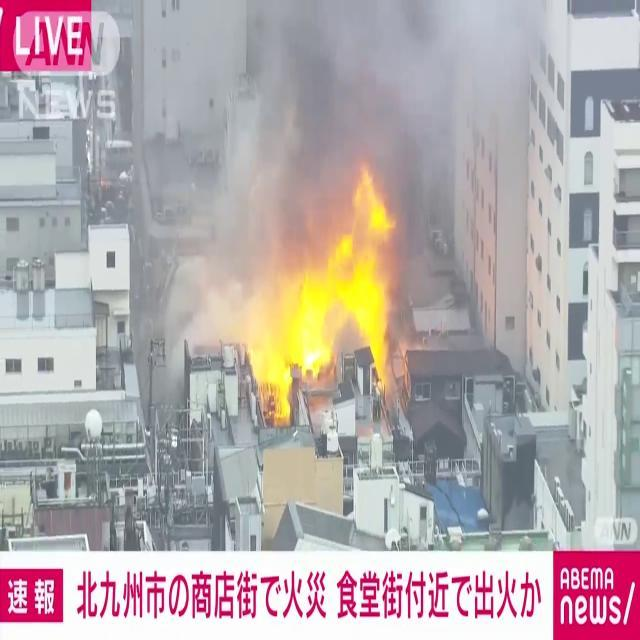Fire: (246, 172, 407, 412)
Smoke: (199, 1, 469, 242)
